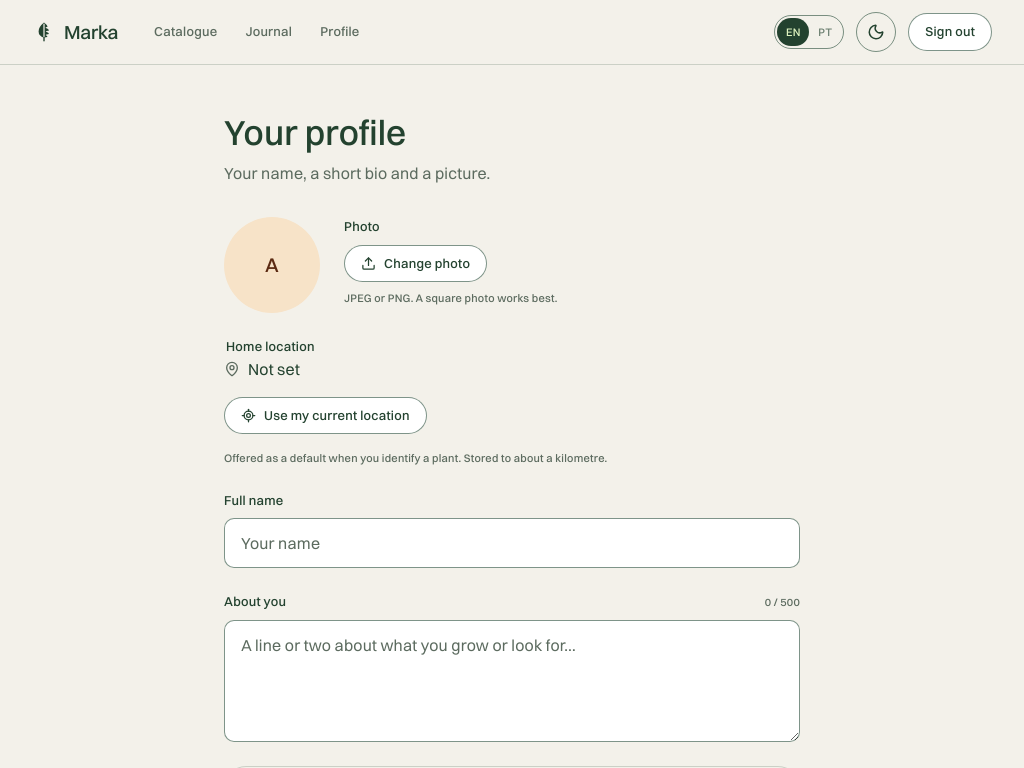
it: ProfilePage › still shows the pick when the preview cannot name it
The image size is (1024, 768).
Click the button "Use my current location": x=325, y=416 [224,397,427,434]
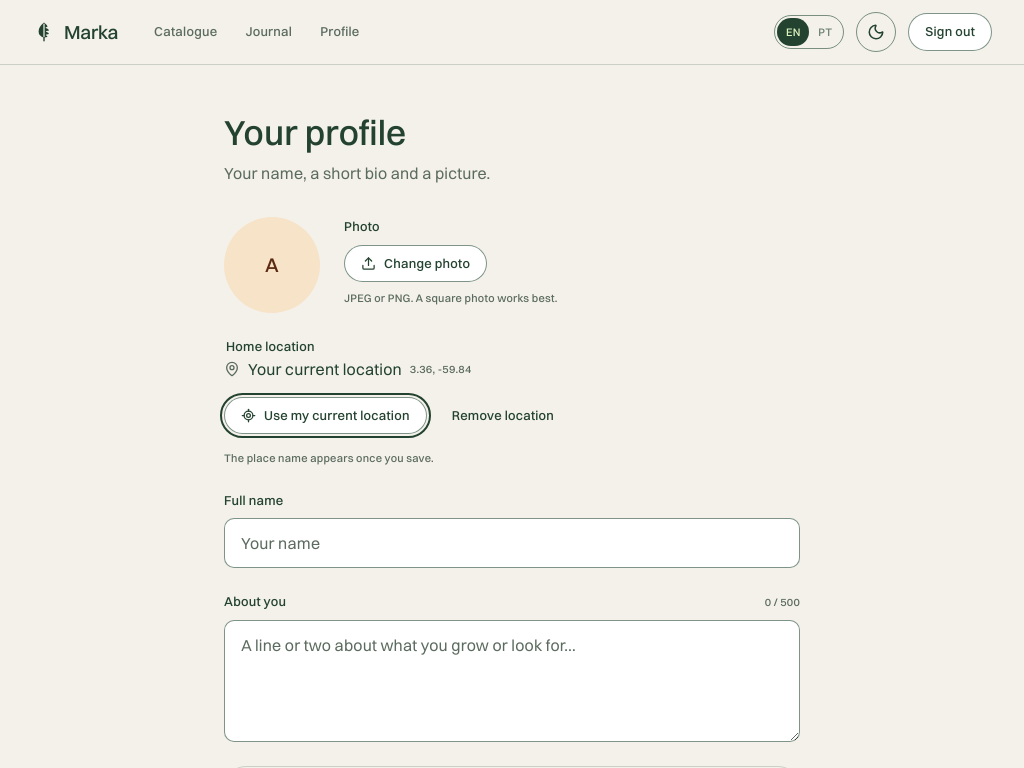
Expected: the text "Your current location" is shown, [248,357,402,381]
Expected: the text "3.36, -59.84" is shown, [410,360,472,377]
